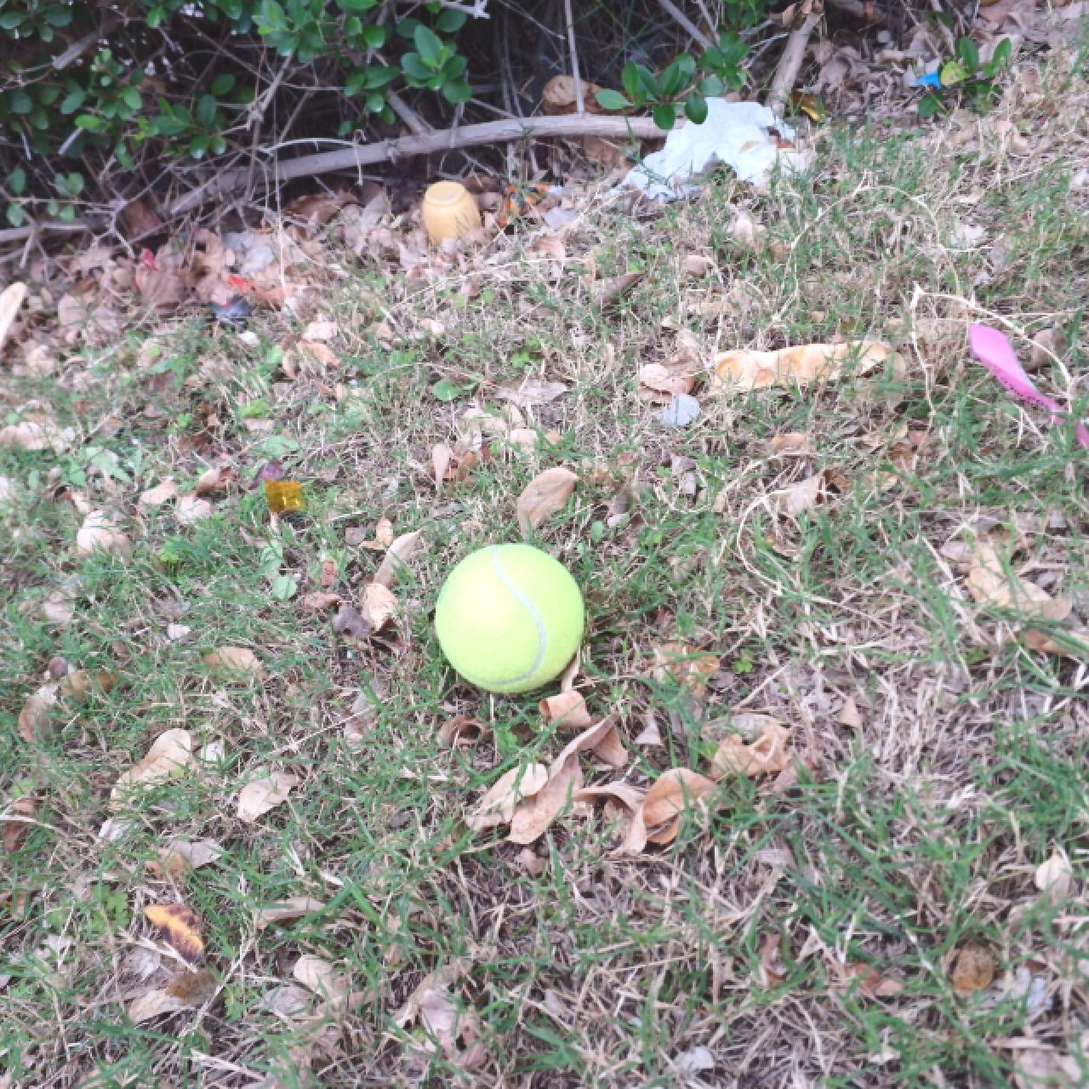tennis-ball: (436, 542, 583, 696)
